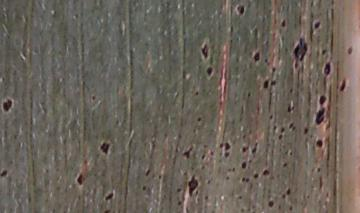tarspot: (289, 36, 310, 70), (186, 171, 200, 199), (97, 136, 114, 159), (198, 39, 212, 62), (1, 94, 15, 115), (314, 105, 326, 129), (73, 170, 86, 188), (233, 2, 247, 18), (251, 47, 262, 66), (180, 145, 194, 159), (104, 188, 116, 204), (337, 77, 348, 94), (314, 136, 325, 152), (322, 60, 332, 77), (317, 45, 330, 58), (312, 18, 323, 33), (265, 196, 276, 211), (278, 16, 288, 32), (204, 64, 215, 78), (317, 92, 328, 106), (260, 166, 271, 179), (250, 169, 261, 181), (143, 167, 154, 179), (139, 182, 149, 195), (285, 102, 294, 116), (300, 125, 311, 136), (286, 120, 297, 131), (1, 168, 11, 180), (261, 76, 269, 91), (250, 143, 259, 156), (240, 176, 251, 186), (239, 159, 248, 171), (239, 143, 248, 155), (195, 113, 204, 125), (269, 78, 279, 88), (280, 158, 289, 169), (286, 185, 293, 199), (223, 141, 232, 151), (223, 151, 232, 161), (269, 64, 278, 74), (271, 123, 280, 133), (246, 89, 254, 100), (279, 125, 287, 135)
